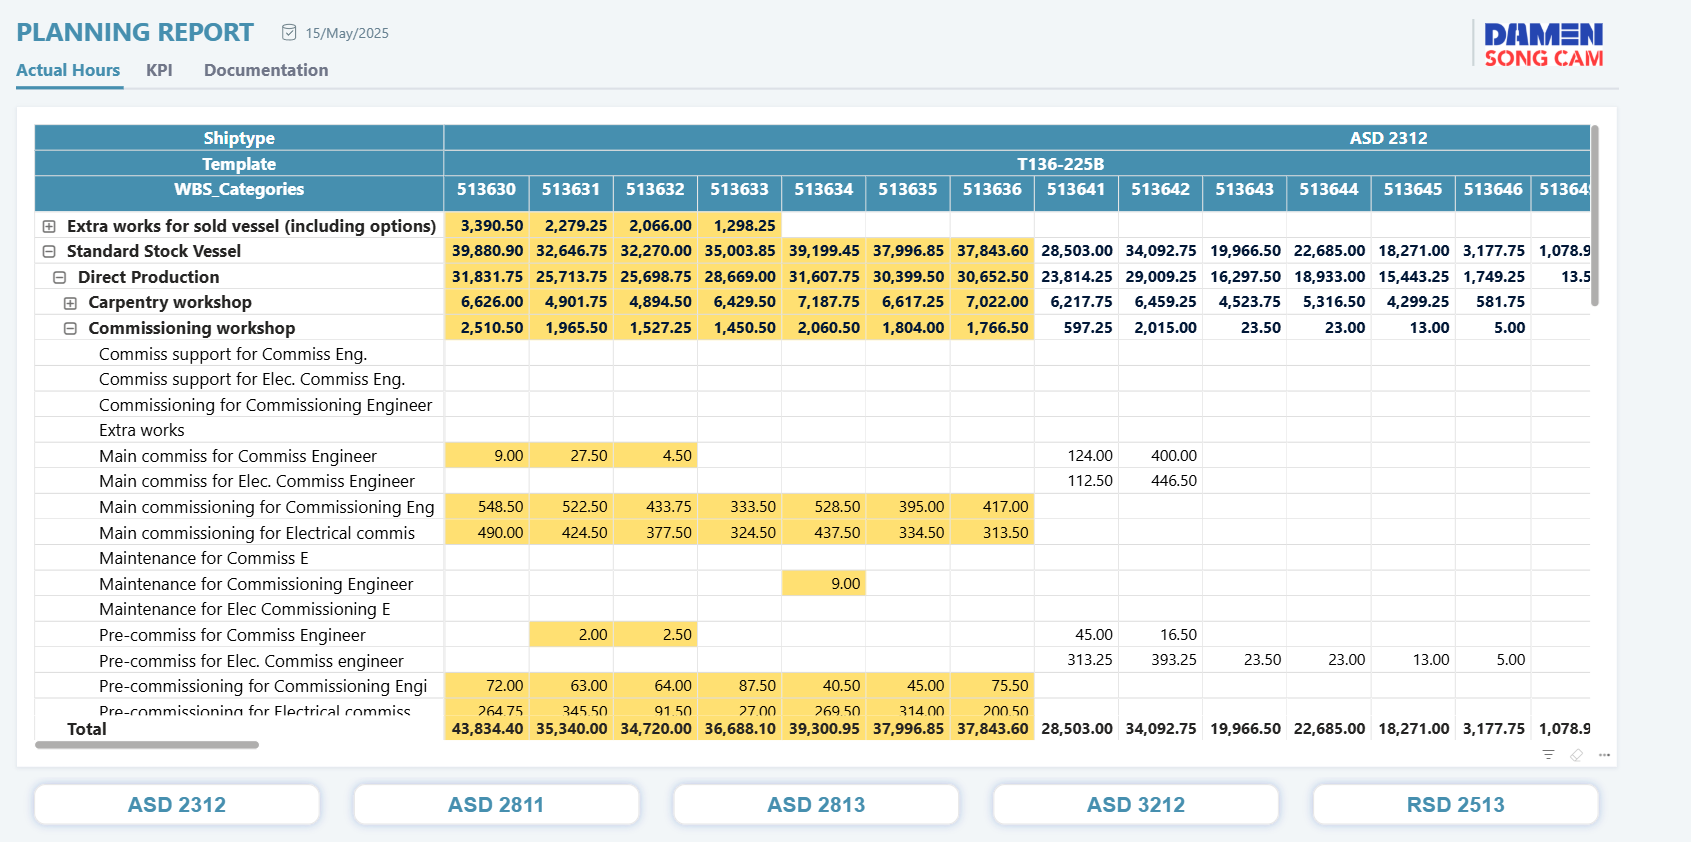

What the dashboard file says about the page in this screenshot:
{"tool":"powerbi","page":{"name":"Actual Hours","canvas":[1568,790],"ordinal":0},"visuals":[{"type":"group","id":"g1","title":"Layout top","box":[32,12,1502,34.1],"z":0},{"type":"actionButton","title":"Button Filters","box":[1272,12,100,32],"z":0,"group":"g4"},{"type":"image","title":"Logo","box":[1426,18,108,20],"z":0,"group":"g1"},{"type":"card","title":"Layout  Date","fields":{"Values":["Min(Data Refresh.Data Refresh)"]},"box":[266,20,81,24],"z":0,"group":"g6"},{"type":"actionButton","title":"Documentation","box":[204,48,126,36],"z":0,"group":"g3"},{"type":"pageNavigator","title":"Selected under line","box":[205,48,123,36],"z":0,"group":"g3"},{"type":"shape","title":"Line","box":[32,77,1504,12.5],"z":0,"group":"g2"},{"type":"textbox","title":"Report title","box":[32,12,1341.1,32],"z":1000,"group":"g1"},{"type":"actionButton","title":"Button count","box":[1343,12,20,32],"z":1000,"group":"g4"},{"type":"htmlContent443BE3AD55E043BF878BED274D3A6865","title":"Icon","fields":{"content":["AR _Measures.m.warningIcon"]},"box":[240,18,24.3,28],"z":1000,"group":"g6"},{"type":"actionButton","title":"Selected filters","box":[885.8,48,650.1,36],"z":1000,"group":"g2"},{"type":"actionButton","title":"Go to Issues ","box":[240,12,111,32],"z":2000,"group":"g6"},{"type":"shape","title":"24px Hidden Square","box":[217,17,23.2,23.2],"z":2000,"group":"g1"},{"type":"group","id":"g2","title":"Page Navigator","box":[32,48,1504,41.5],"z":2000},{"type":"group","id":"g3","title":"Documentation","box":[204,48,126,36],"z":2000,"group":"g2"},{"type":"pageNavigator","title":"Page 3","box":[154,48,26,36],"z":2250,"group":"g5"},{"type":"pageNavigator","title":"Page 2","box":[32,48,101,36],"z":2500,"group":"g5"},{"type":"group","id":"g4","title":"Filter button","box":[1272,12,100.5,32.6],"z":3000,"group":"g1"},{"type":"pivotTable","fields":{"Rows":["WBS Category.WBS_Categories","Activity Type.Department","Activity Type.Workshop","Actual Hours.Operation Short Text"],"Columns":["Project List.Shiptype","Project List.Template","Project List.Yardnumber"],"Values":["Actual Hours.Measure"]},"box":[32,98.2,1501.8,679.1],"z":3000},{"type":"shape","title":"Separator","box":[1392,18,13.8,20],"z":4000,"group":"g1"},{"type":"group","id":"g5","title":"Page items","box":[32,48,148,36],"z":4500,"group":"g2"},{"type":"group","id":"g6","title":"Data Refreshed","box":[240,12,110.6,34.1],"z":5000,"group":"g1"}]}

Visuals, with their boxes on the page's 1568x790 design canvas (x1, y1, x2, y2). These are canvas units, not pixel positions in the 1691x842 screenshot, which may show the page scaled, cropped or inside an application window:
"Layout top" group: l=32, t=12, r=1534, b=46
"Button Filters" actionButton: l=1272, t=12, r=1372, b=44
"Logo" image: l=1426, t=18, r=1534, b=38
"Layout  Date" card: l=266, t=20, r=347, b=44
"Documentation" actionButton: l=204, t=48, r=330, b=84
"Selected under line" pageNavigator: l=205, t=48, r=328, b=84
"Line" shape: l=32, t=77, r=1536, b=90
"Report title" textbox: l=32, t=12, r=1373, b=44
"Button count" actionButton: l=1343, t=12, r=1363, b=44
"Icon" htmlContent443BE3AD55E043BF878BED274D3A6865: l=240, t=18, r=264, b=46
"Selected filters" actionButton: l=886, t=48, r=1536, b=84
"Go to Issues " actionButton: l=240, t=12, r=351, b=44
"24px Hidden Square" shape: l=217, t=17, r=240, b=40
"Page Navigator" group: l=32, t=48, r=1536, b=90
"Documentation" group: l=204, t=48, r=330, b=84
"Page 3" pageNavigator: l=154, t=48, r=180, b=84
"Page 2" pageNavigator: l=32, t=48, r=133, b=84
"Filter button" group: l=1272, t=12, r=1372, b=45
pivotTable - WBS Category.WBS_Categories x Activity Type.Department: l=32, t=98, r=1534, b=777
"Separator" shape: l=1392, t=18, r=1406, b=38
"Page items" group: l=32, t=48, r=180, b=84
"Data Refreshed" group: l=240, t=12, r=351, b=46
